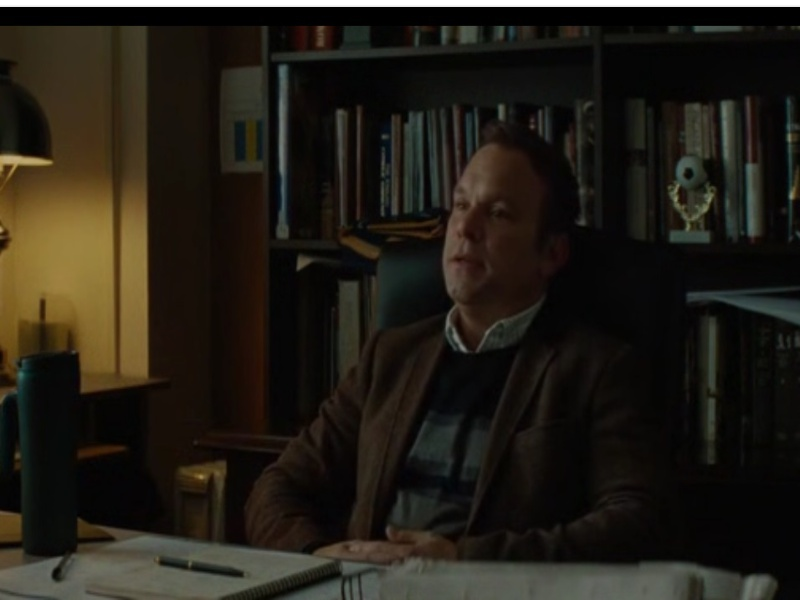TsisyArotava: (439, 144, 527, 316)
